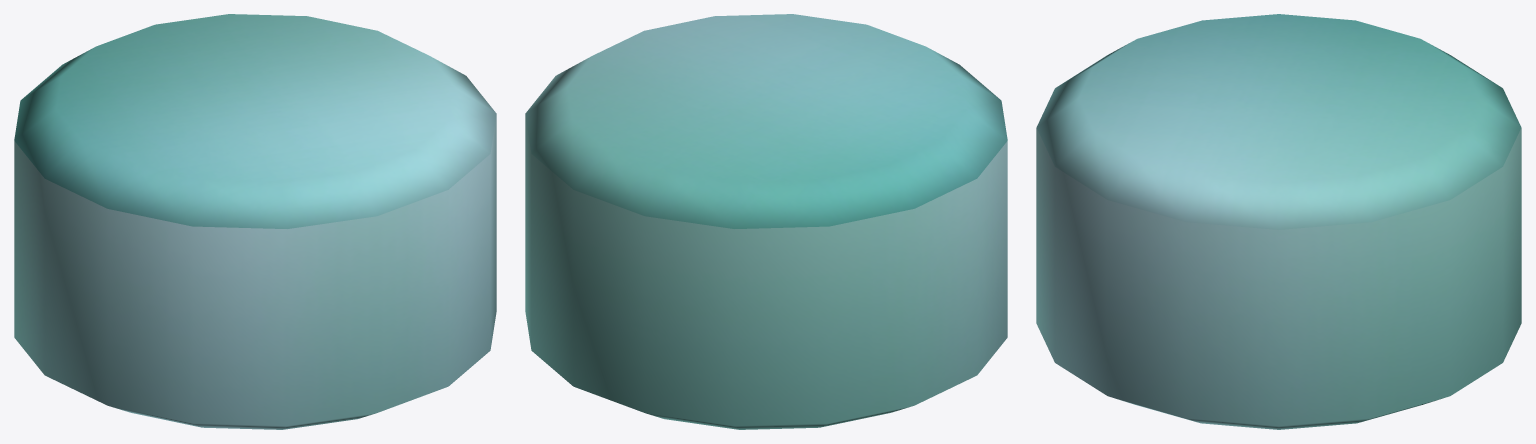
File: Water_Bottle_Cap_01.fbx
3 renders of one model, left to right at view 1: azimuth 30°, elevation 25°; view 2: azimuth 150°, elevation 25°; view 3: azimuth 270°, elevation 25°, orthographic.
Parts seen in each view (by area): view 1: Water_Bottle_Cap_01; view 2: Water_Bottle_Cap_01; view 3: Water_Bottle_Cap_01.
Part boxes in pixels (box(x1,y1,x2,y2)): Water_Bottle_Cap_01: box(14, 14, 496, 429); Water_Bottle_Cap_01: box(525, 14, 1007, 429); Water_Bottle_Cap_01: box(1036, 14, 1521, 429).
Bounding box in the file's own units: 19.83 × 11.06 × 19.83.
